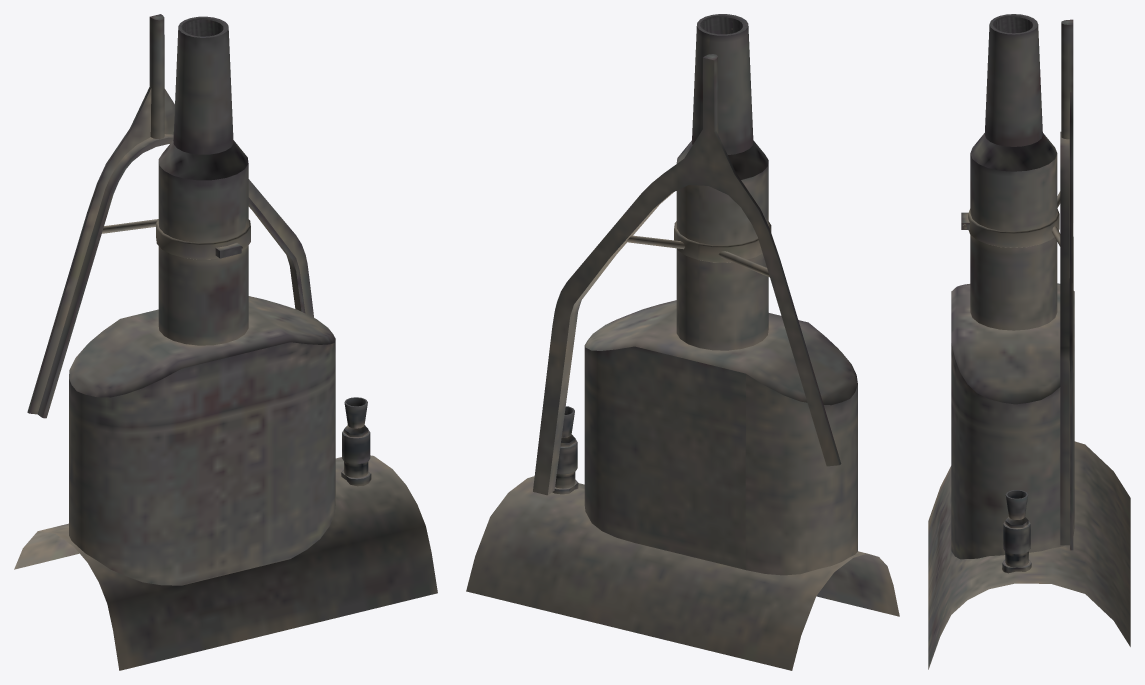
File: Gun_03.glb
3 views of the same model, side by side, from view 1: azimuth 30°, elevation 25°; view 2: azimuth 150°, elevation 25°; view 3: azimuth 270°, elevation 25° (orthographic). The views are drawn at different scales.
Parts seen in each view (by area): view 1: set_0_group_0; view 2: set_0_group_0; view 3: set_0_group_0.
Part boxes in pixels (left/top/right/bottom): set_0_group_0: left=14, top=14, right=437, bottom=670; set_0_group_0: left=466, top=14, right=899, bottom=670; set_0_group_0: left=928, top=14, right=1130, bottom=669.
Size of the model in its own units: 0.7208 by 1.19 by 0.3923.
1 material, 1 textured.
